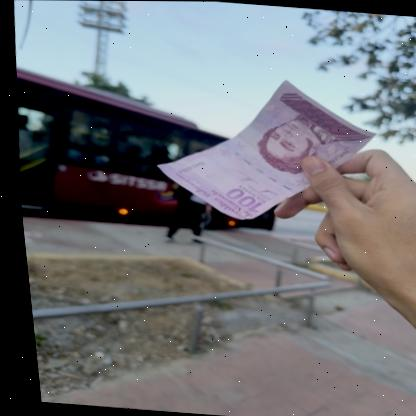one_hundred-front-vef: (142, 69, 386, 231)
